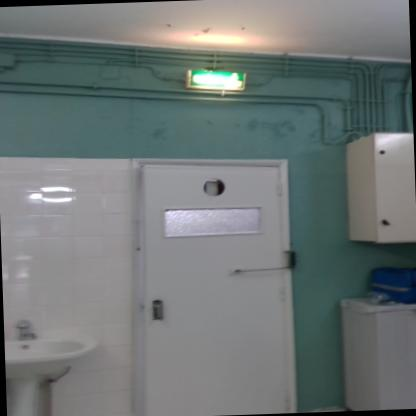closed: (124, 140, 314, 416)
